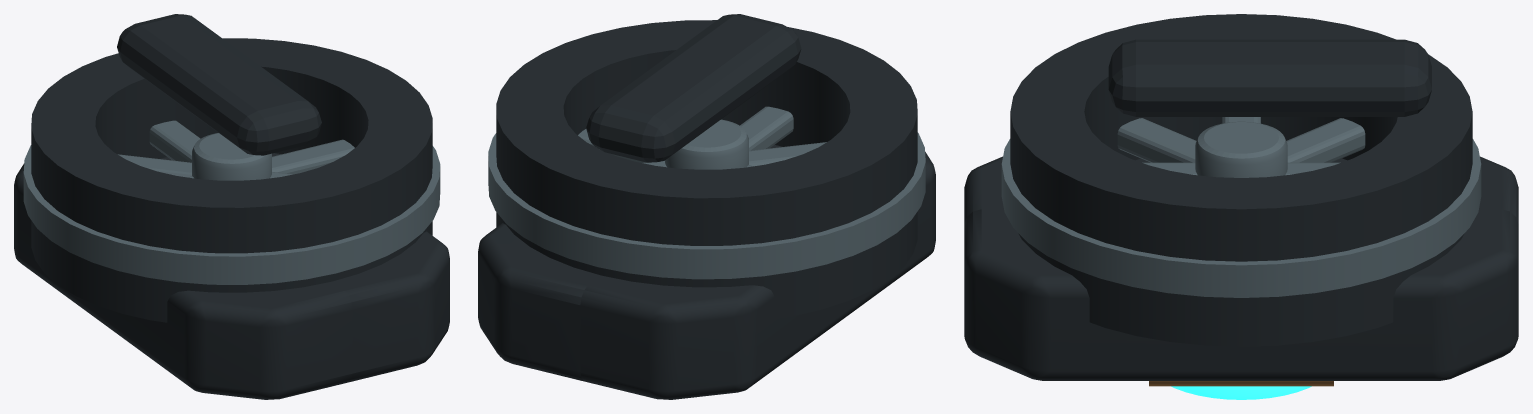
Rendered from service_light.glb.
3 views of the same model, side by side, from view 1: azimuth 30°, elevation 25°; view 2: azimuth 150°, elevation 25°; view 3: azimuth 270°, elevation 25° (orthographic). The views are drawn at different scales.
Visible parts, largest first — view 1: RelayDuct, RelayKeel, RelayCrown, RelayEdge, RotorHub, RelayBlade, RelayBlade.002, RelayBlade.001; view 2: RelayDuct, RelayKeel, RelayCrown, RelayEdge, RotorHub, RelayBlade.006, RelayBlade.007; view 3: RelayDuct, RelayKeel, RelayCrown, RelayEdge, RotorHub, RelayBlade.001, RelayBlade.007, ChargeOptic, RelayContact.001.
Part boxes in pixels (x1,y1,x2,y2): RelayDuct: (31, 38, 432, 322); RelayKeel: (14, 153, 449, 399); RelayCrown: (117, 14, 321, 155); RelayEdge: (23, 145, 440, 284); RotorHub: (192, 133, 271, 180); RelayBlade: (187, 139, 354, 178); RelayBlade.002: (149, 120, 200, 162); RelayBlade.001: (118, 154, 191, 177); RelayDuct: (496, 20, 917, 318); RelayKeel: (478, 145, 935, 399); RelayCrown: (586, 14, 801, 162); RelayEdge: (488, 132, 925, 279); RotorHub: (665, 119, 748, 169); RelayBlade.006: (740, 106, 793, 150); RelayBlade.007: (749, 142, 826, 166); RelayDuct: (1010, 14, 1472, 346); RelayKeel: (964, 156, 1518, 380); RelayCrown: (1108, 39, 1431, 116); RelayEdge: (1001, 139, 1481, 297); RotorHub: (1195, 121, 1287, 177); RelayBlade.001: (1286, 118, 1365, 162); RelayBlade.007: (1117, 118, 1196, 162); ChargeOptic: (1171, 386, 1311, 399); RelayContact.001: (1149, 381, 1333, 386).
Size of the model in its own units: 0.332 by 0.236 by 0.384.
